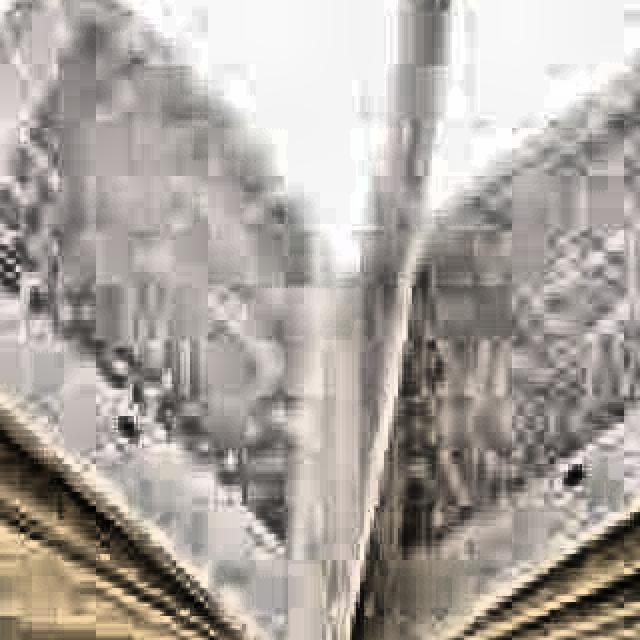paper: (0, 0, 640, 640), (0, 0, 322, 640), (328, 18, 640, 640), (318, 0, 450, 640)
